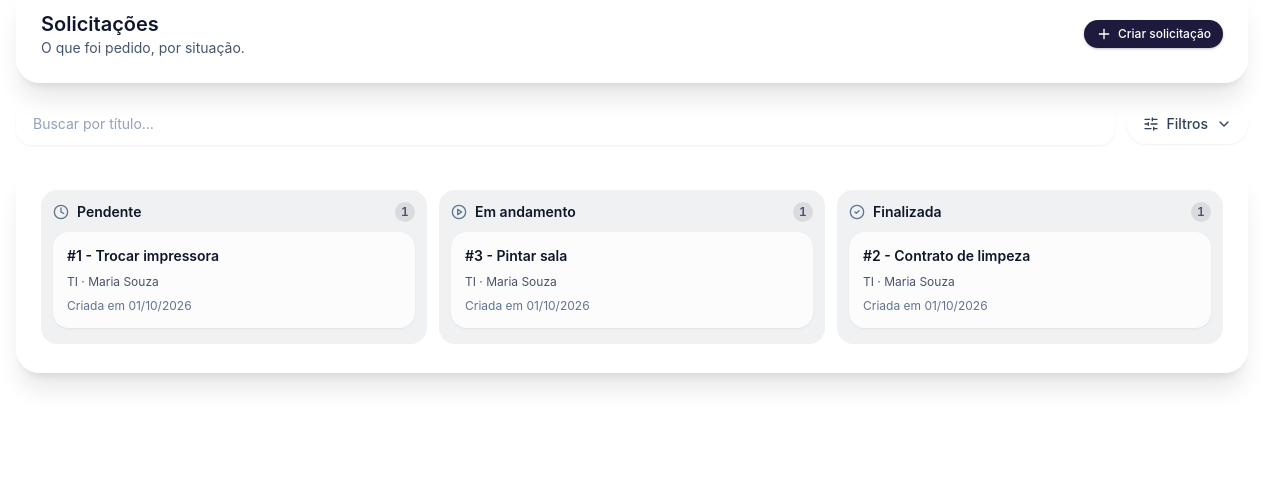
Scenario: DemandsView › filtros › Categoria e período começam recolhidos e abrem pelo botão Filtros
Click the button "Filtros". click: (1187, 124)
box: [1127,104,1248,144]
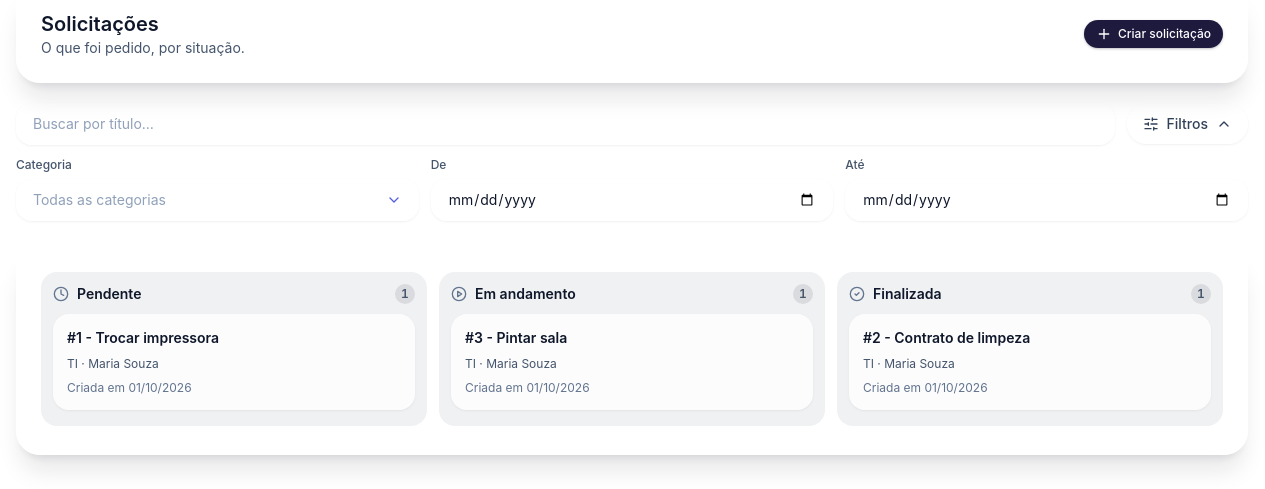
expect the button "Filtros" is expanded: met
Click the button "Filtros". click: (1187, 124)
box: [1127,104,1248,144]
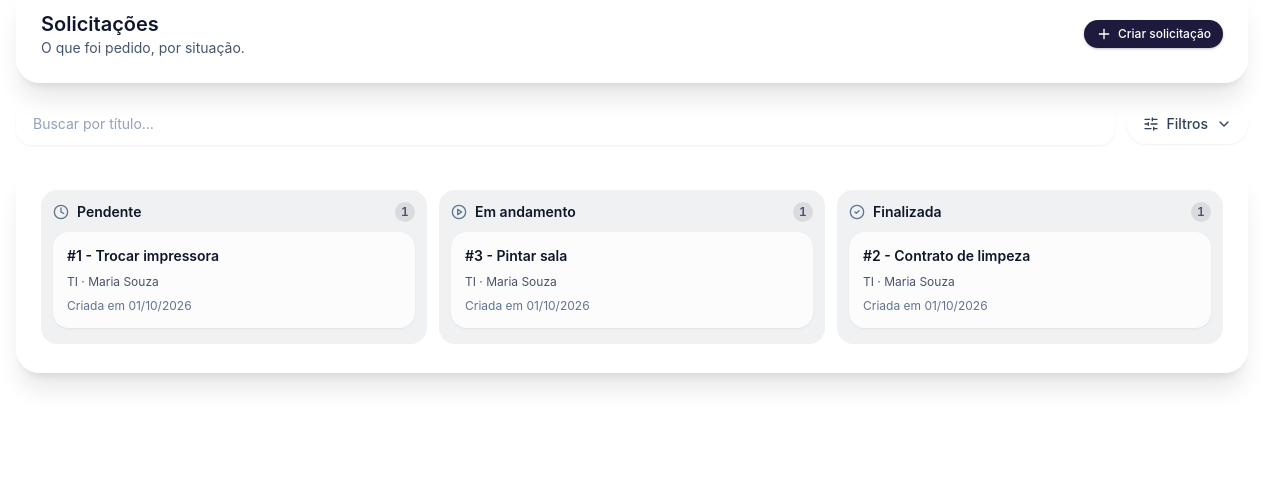
expect the button "Filtros" is collapsed: met, box [1127,104,1248,144]
